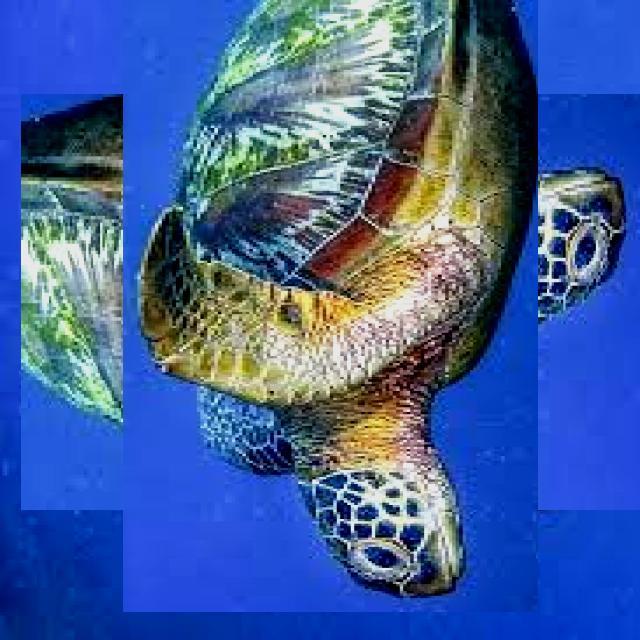Sea turtle: (72, 44, 589, 561)
